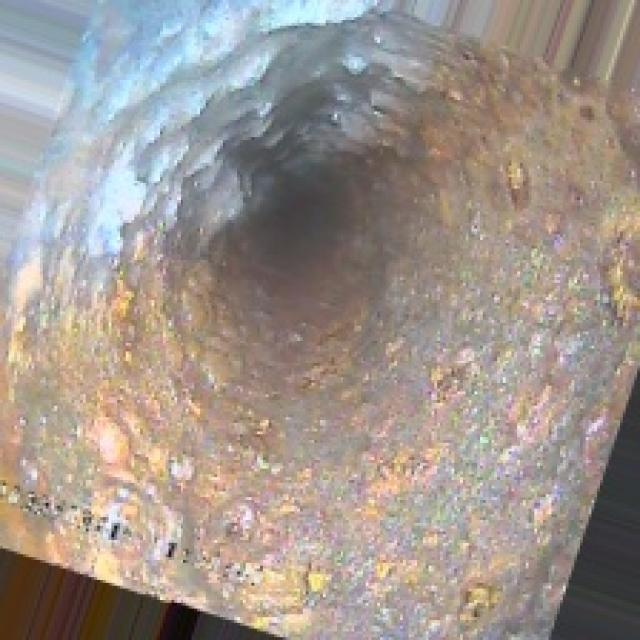encrustation: (91, 23, 583, 506)
